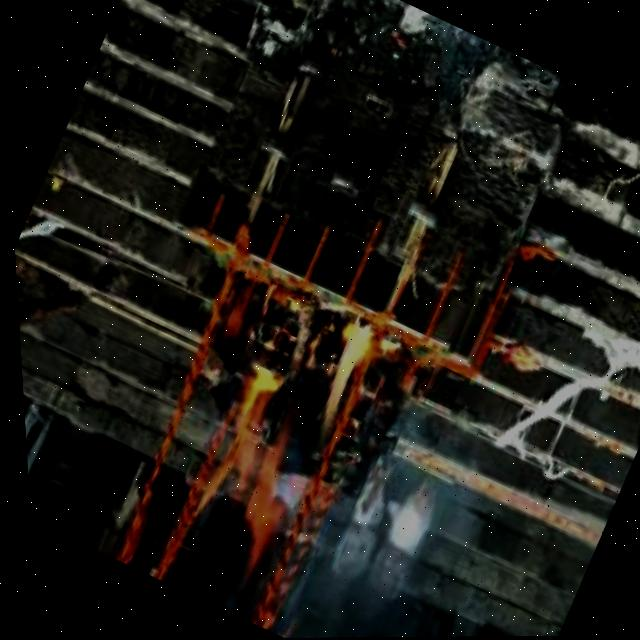Fire: (163, 280, 397, 572)
